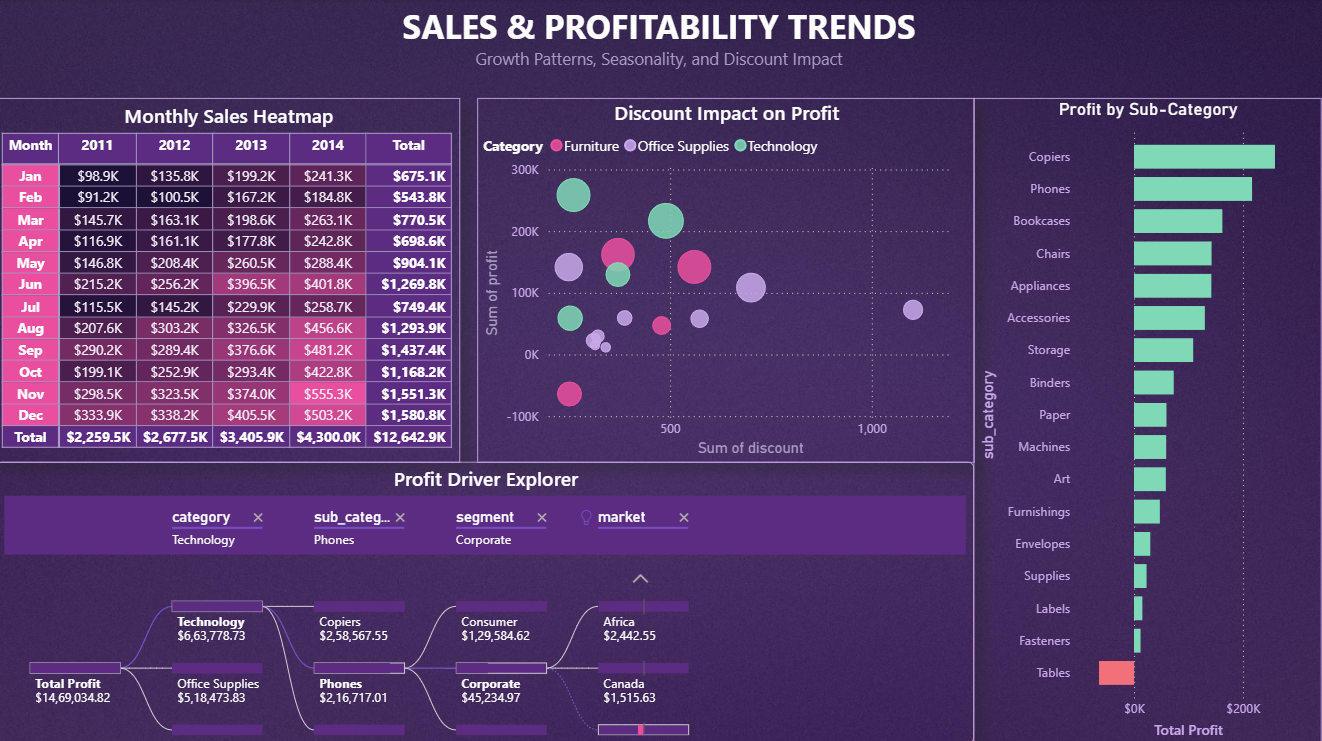

The page's visual inventory and layout, read from the dashboard file:
{"tool":"powerbi","page":{"name":"Sales & Profitability Trends","canvas":[1280,720],"ordinal":1},"visuals":[{"type":"textbox","box":[0,0,1280,96],"z":0},{"type":"pivotTable","title":"Monthly Sales Heatmap","fields":{"Rows":["DateTable.Month"],"Columns":["DateTable.Year"],"Values":["Measures (2).Total Sales"]},"box":[0,96,448,352],"z":1000},{"type":"scatterChart","title":"Discount Impact on Profit","fields":{"X":["Sum(SuperStoreOrders.discount)"],"Y":["Sum(SuperStoreOrders.profit)"],"Category":["SuperStoreOrders.sub_category"],"Series":["SuperStoreOrders.category"],"Size":["Sum(SuperStoreOrders.sales)"]},"box":[464,96,480,352],"z":2000},{"type":"decompositionTreeVisual","title":"Profit Driver Explorer","fields":{"Analyze":["Measures (2).Total Profit"],"ExplainBy":["SuperStoreOrders.category","SuperStoreOrders.sub_category","SuperStoreOrders.segment","SuperStoreOrders.market"]},"box":[0,448,944,272],"z":3000},{"type":"clusteredBarChart","title":"Profit by Sub-Category ","fields":{"Category":["SuperStoreOrders.sub_category"],"Y":["Measures (2).Total Profit"]},"box":[944,96,336,624],"z":4000}]}

Visuals, with their boxes in screenshot pixels (x1, y1, x2, y2), scaled from the page's 1280x720 canvas onto the 1322x741 screenshot:
textbox: [0, 0, 1321, 99]
"Monthly Sales Heatmap" pivotTable: [0, 99, 463, 461]
"Discount Impact on Profit" scatterChart: [479, 99, 975, 461]
"Profit Driver Explorer" decompositionTreeVisual: [0, 461, 975, 740]
"Profit by Sub-Category " clusteredBarChart: [975, 99, 1321, 740]
